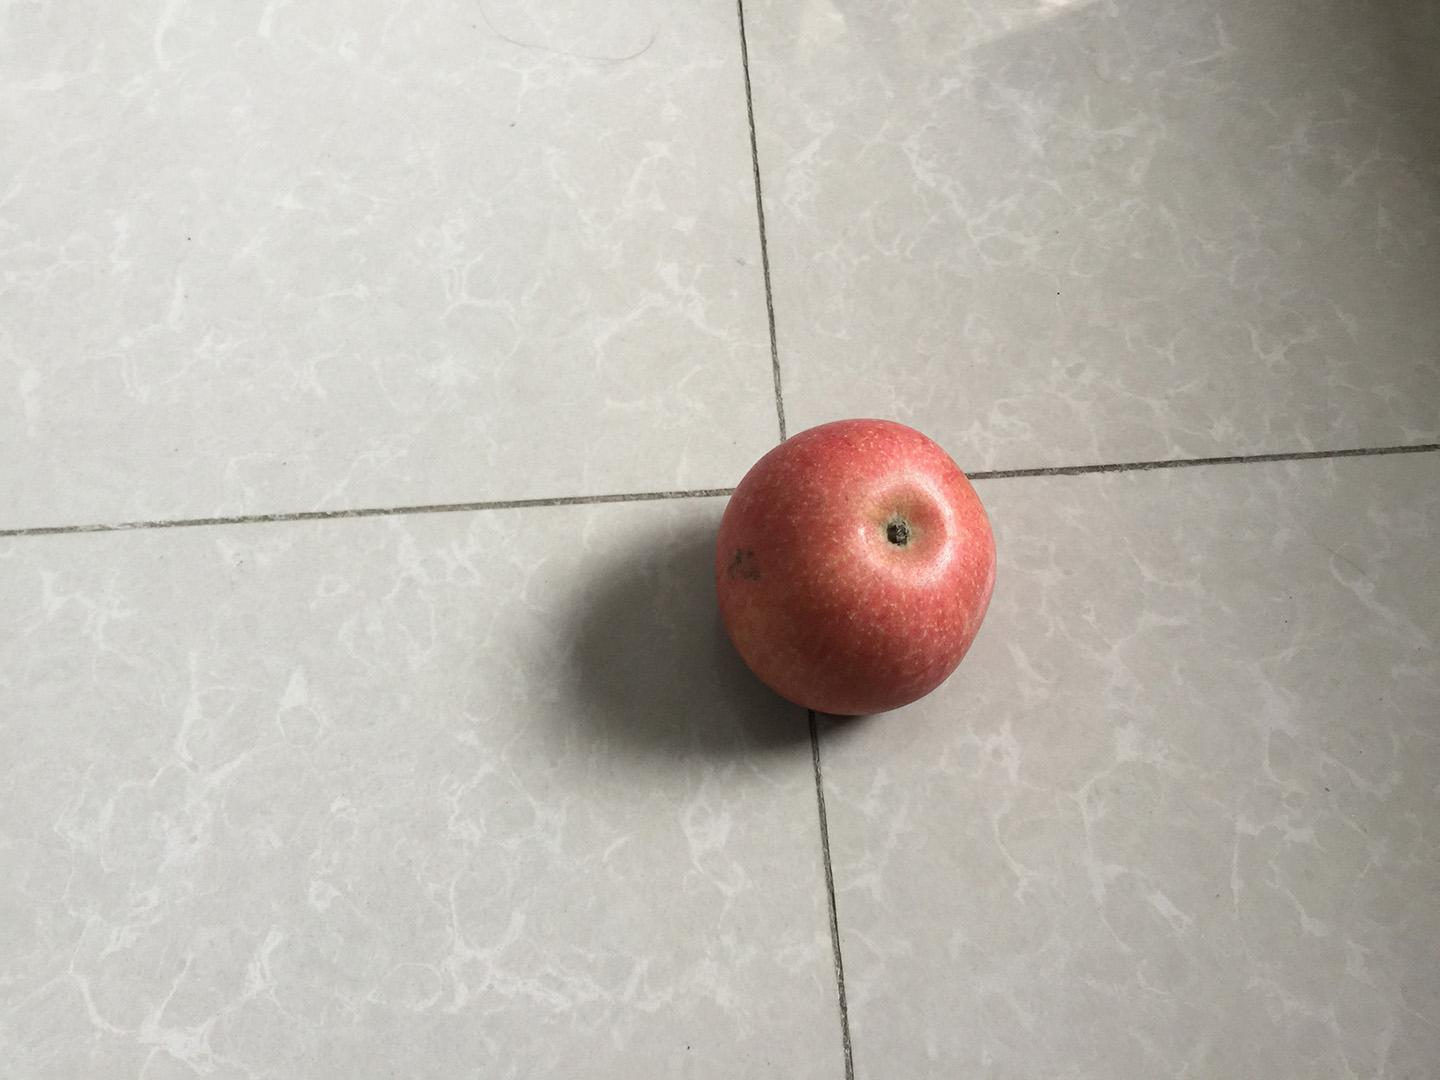apple: (704, 412, 1006, 723)
